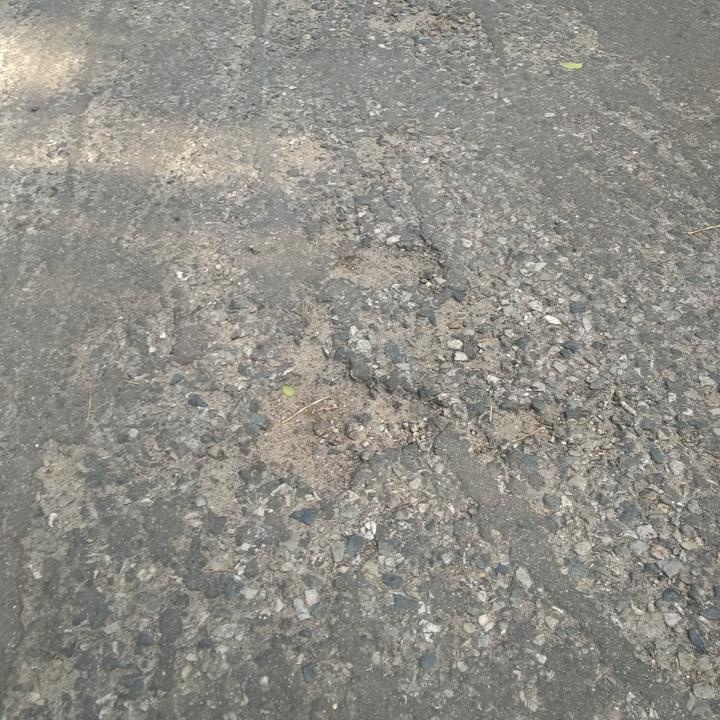pothole: (254, 333, 450, 493), (327, 235, 449, 296), (484, 400, 557, 445)
